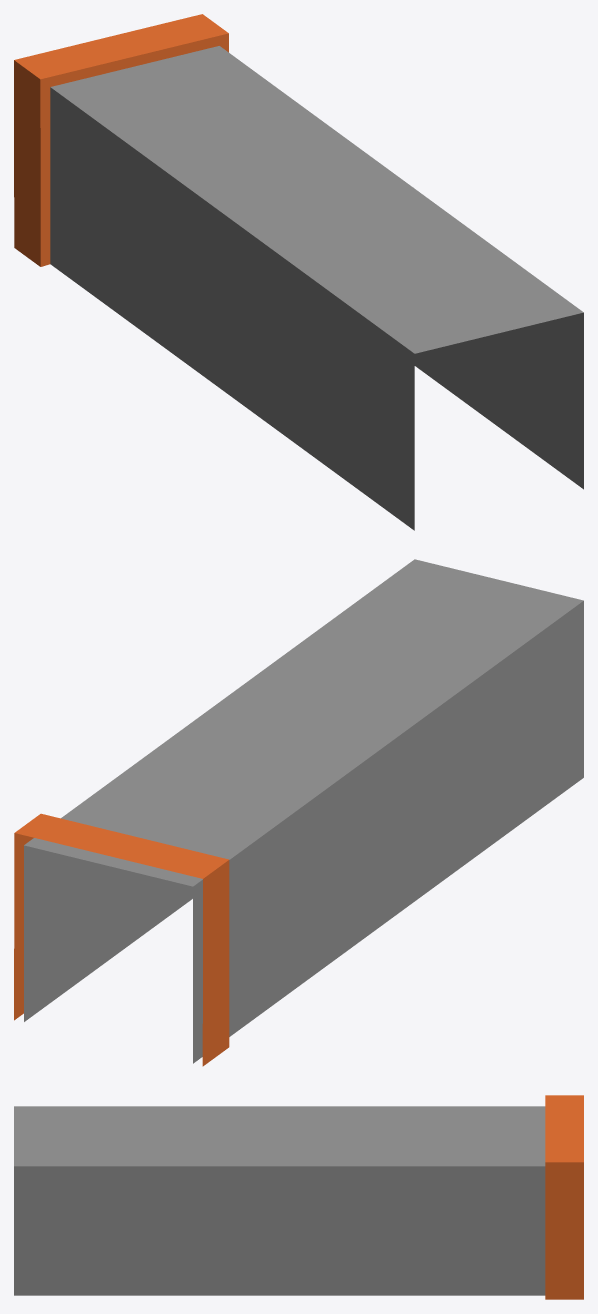
Rendered from Interior_halfcolumn_01.fbx.
3 renders of one model, top to bottom at view 1: azimuth 30°, elevation 25°; view 2: azimuth 150°, elevation 25°; view 3: azimuth 270°, elevation 25°, orthographic. The views are drawn at different scales.
Visible parts, largest first — view 1: Interior_halfcolumn_01; view 2: Interior_halfcolumn_01; view 3: Interior_halfcolumn_01.
Part boxes in pixels (x1=…): Interior_halfcolumn_01: x1=14, y1=14, x2=583, y2=530; Interior_halfcolumn_01: x1=14, y1=559, x2=583, y2=1066; Interior_halfcolumn_01: x1=14, y1=1095, x2=583, y2=1299.
Bounding box in the file's own units: 21.98 × 78.74 × 20.88.
